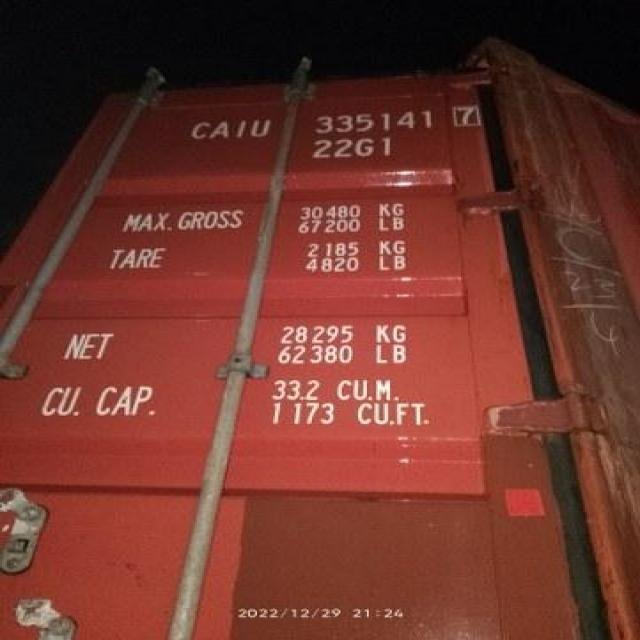container_number_h: (161, 86, 516, 190)
